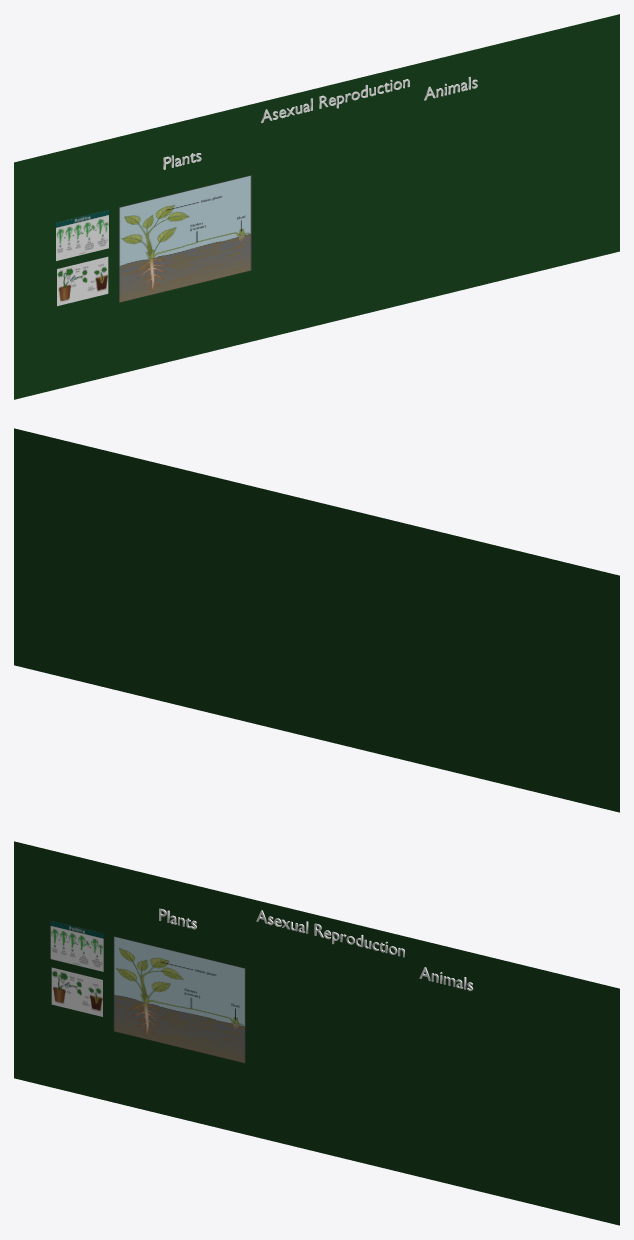
Rendered from runners.gltf.
The picture shows the model from 3 angles, top to bottom: view 1: azimuth 30°, elevation 25°; view 2: azimuth 150°, elevation 25°; view 3: azimuth 330°, elevation 25°; orthographic projection.
Parts seen in each view (by area): view 1: Plane.013, Plane, Plane.001, Plane.002, Text.001; view 2: Plane.013; view 3: Plane.013, Plane, Plane.001, Plane.002, Text.001.
Part boxes in pixels (<box>): Plane.013: <box>14,14,619,399</box>; Plane: <box>119,175,251,302</box>; Plane.001: <box>56,210,108,260</box>; Plane.002: <box>57,256,108,306</box>; Text.001: <box>261,79,409,122</box>; Plane.013: <box>14,428,619,812</box>; Plane.013: <box>14,841,619,1225</box>; Plane: <box>113,936,245,1063</box>; Plane.001: <box>50,921,103,971</box>; Plane.002: <box>51,967,102,1016</box>; Text.001: <box>256,910,404,957</box>.
Bounding box in the file's own units: 15.94 × 5.96 × 0.1459.
7 materials, 3 textured.
